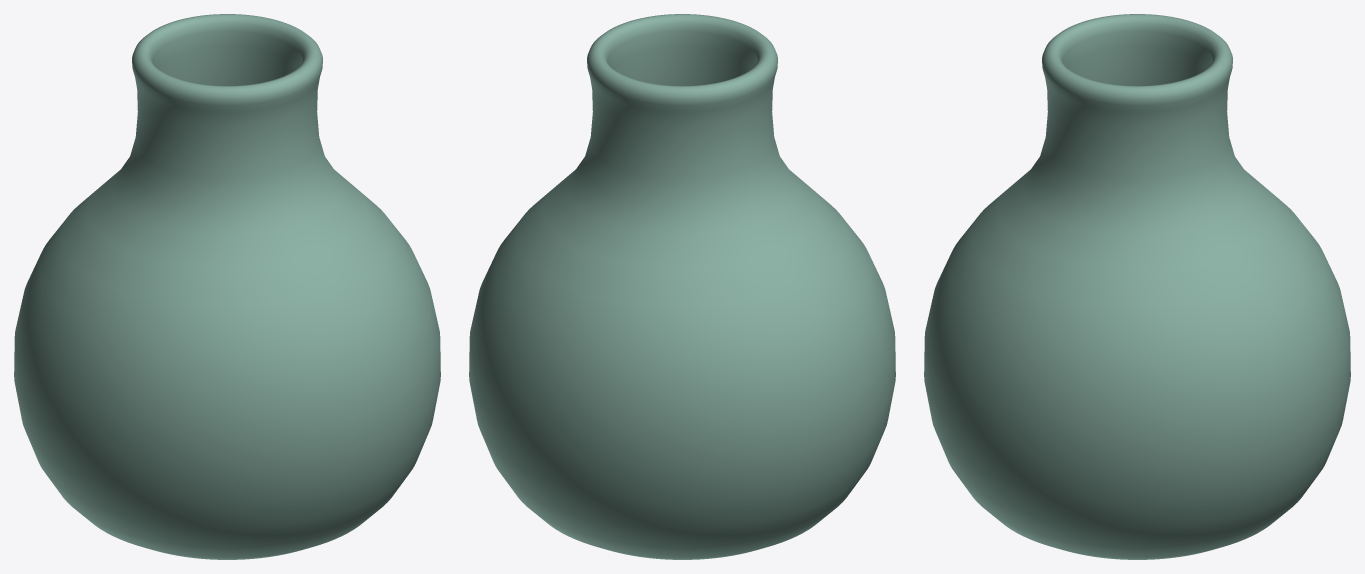
The model's file is vase.glb.
3 views of the same model, side by side, from view 1: azimuth 30°, elevation 25°; view 2: azimuth 150°, elevation 25°; view 3: azimuth 270°, elevation 25° (orthographic).
Parts seen in each view (by area): view 1: asset-foundation-v1/vase; view 2: asset-foundation-v1/vase; view 3: asset-foundation-v1/vase.
Part boxes in pixels (<box>): asset-foundation-v1/vase: <box>14,14,440,559</box>; asset-foundation-v1/vase: <box>469,14,895,559</box>; asset-foundation-v1/vase: <box>924,14,1350,559</box>.
Size of the model in its own units: 0.2197 by 0.262 by 0.2197.
